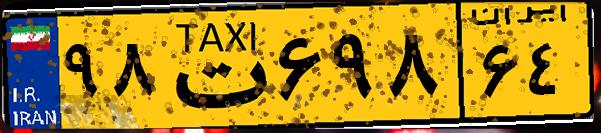4: (525, 38, 570, 115)
6: (270, 28, 330, 110), (475, 38, 525, 113)
8: (385, 28, 445, 110), (110, 28, 158, 98)
9: (330, 28, 385, 110), (57, 26, 110, 100)
ت: (158, 12, 270, 120)
